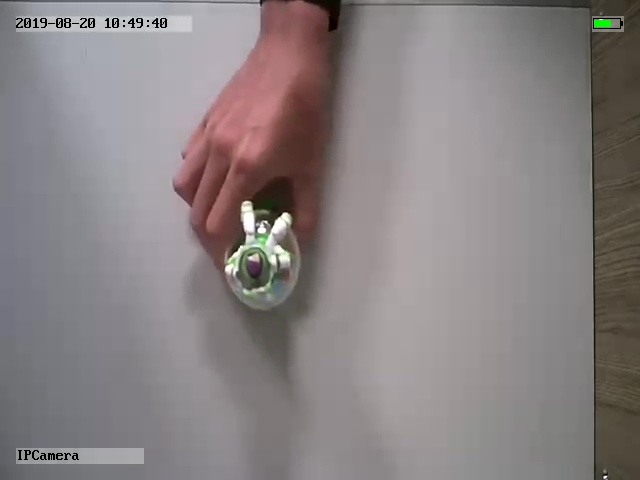buzz: (221, 198, 303, 314)
